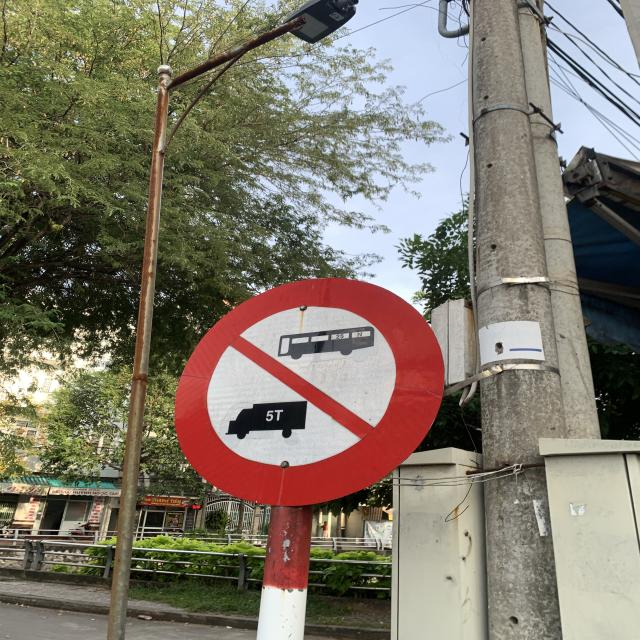Cam_XeTai_XeKhach: (176, 275, 444, 503)
